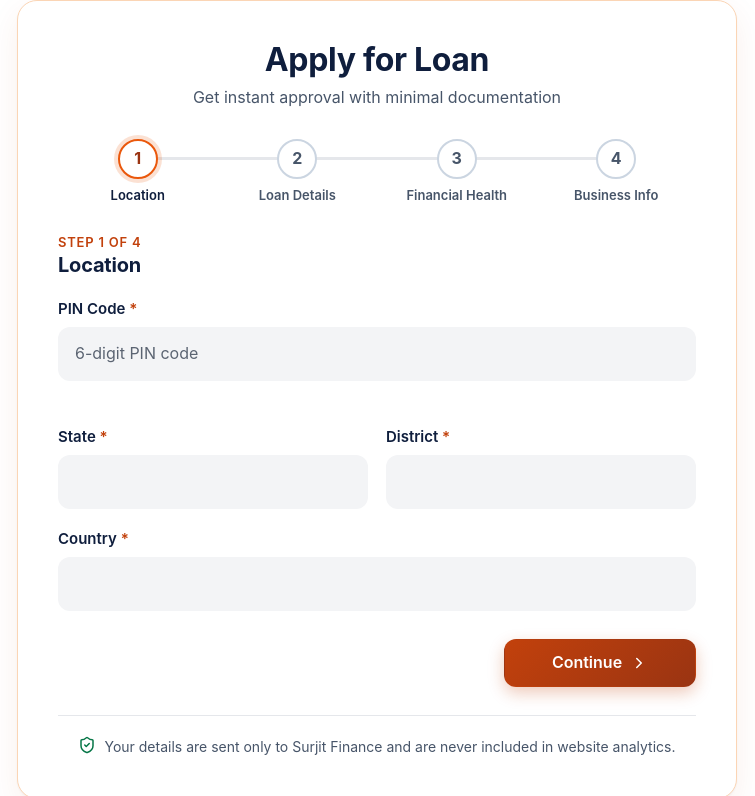
Scenario: Step 3 — Financial health › all three selections are required
This screenshot has width=755, height=796.
In the field labelled "PIN Code *": (377, 354) [59,328,695,380], type "226001"
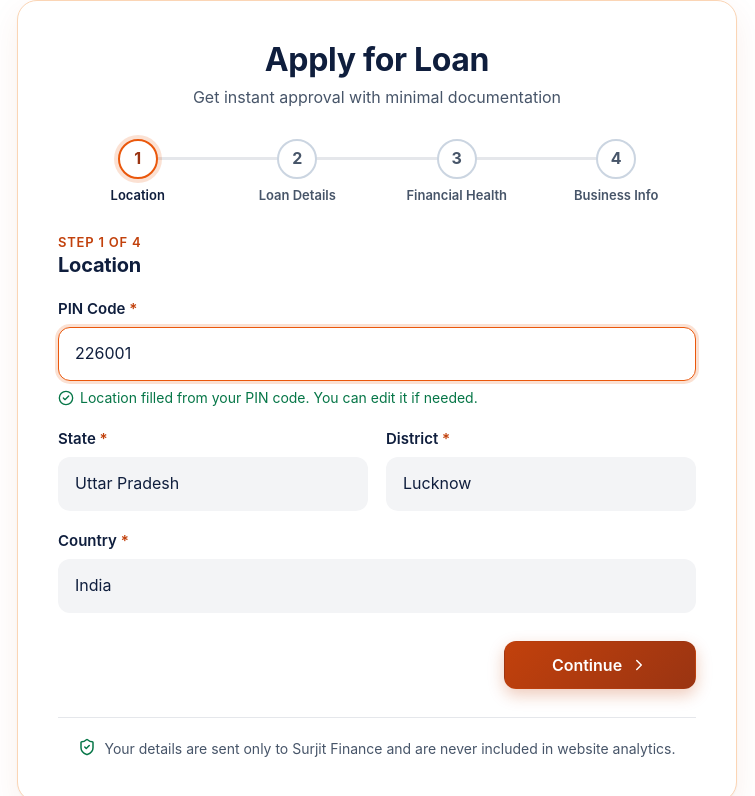
Now the field labelled "State *" holds "Uttar Pradesh", box [59,458,367,510]
Click the button "Continue": (600, 665) [504,641,696,689]
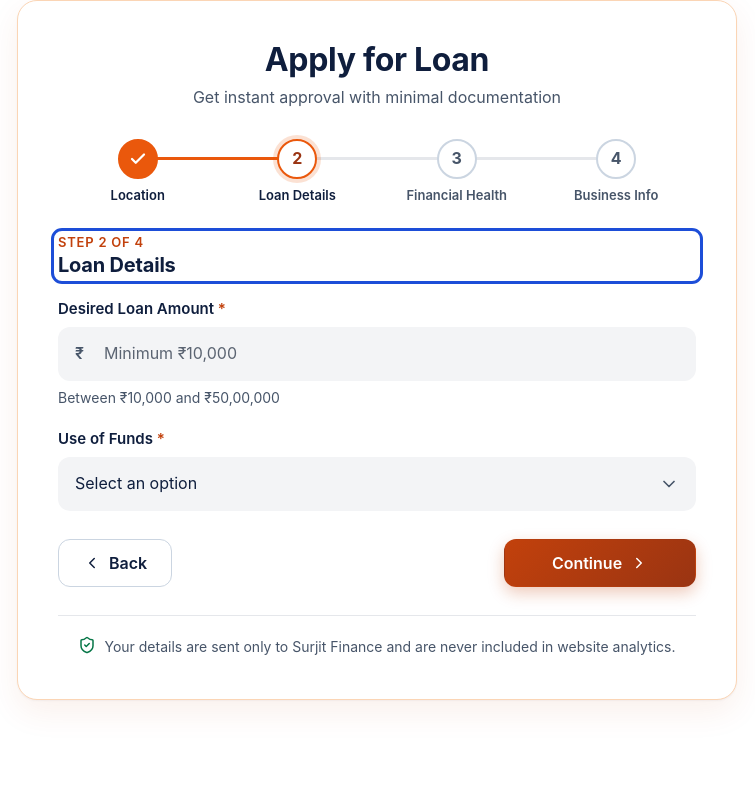
Now the heading "Step 2 of 4 Loan Details" is shown, box [58,234,176,277]
In the field labelled "Desired Loan Amount *": (392, 354) [88,328,695,380], type "250000"
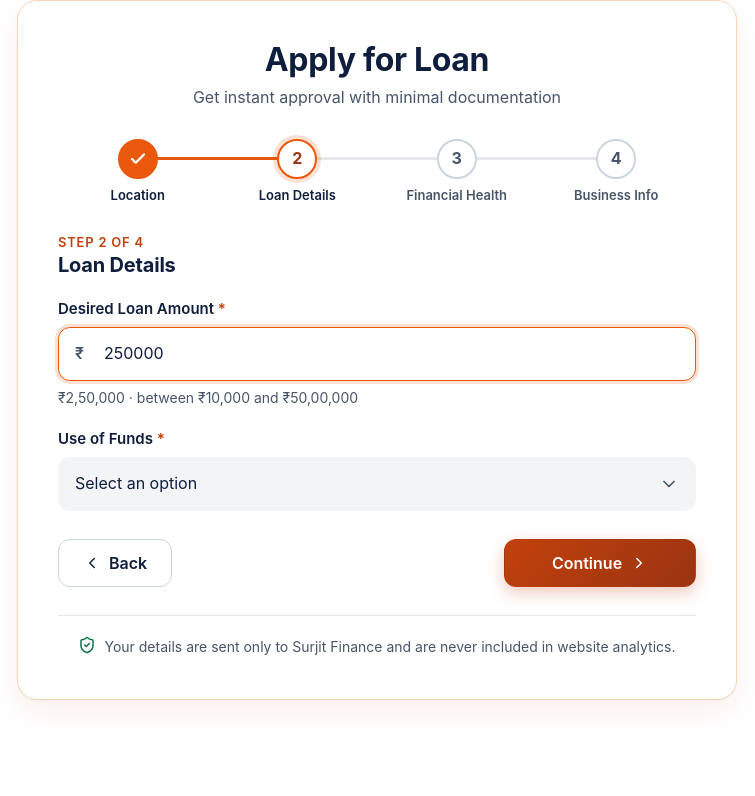
Select "Working Capital" in the dropdown labelled "Use of Funds *": (377, 484) [59,458,695,510]
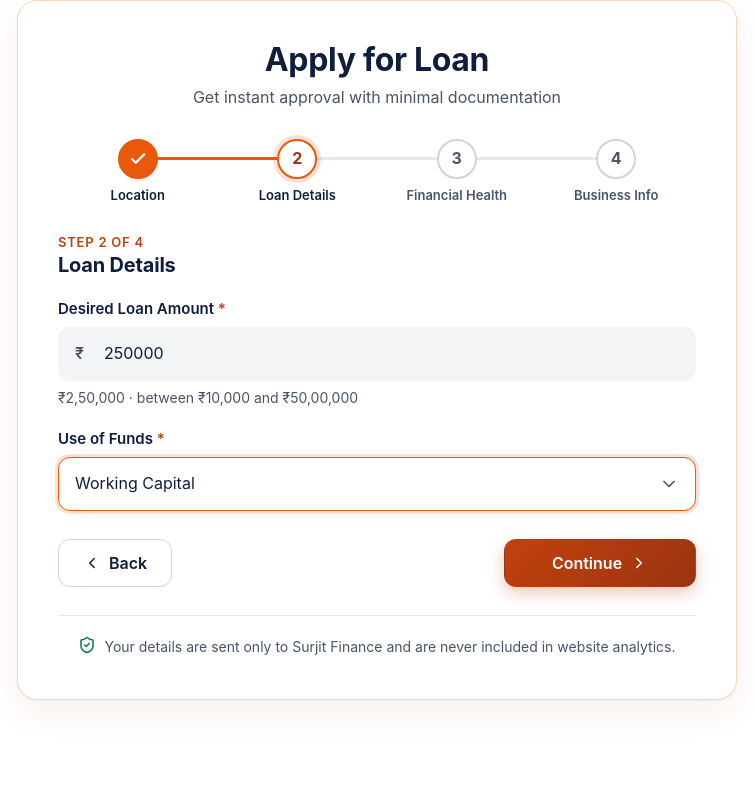
Click the button "Continue": (600, 563) [504,539,696,587]
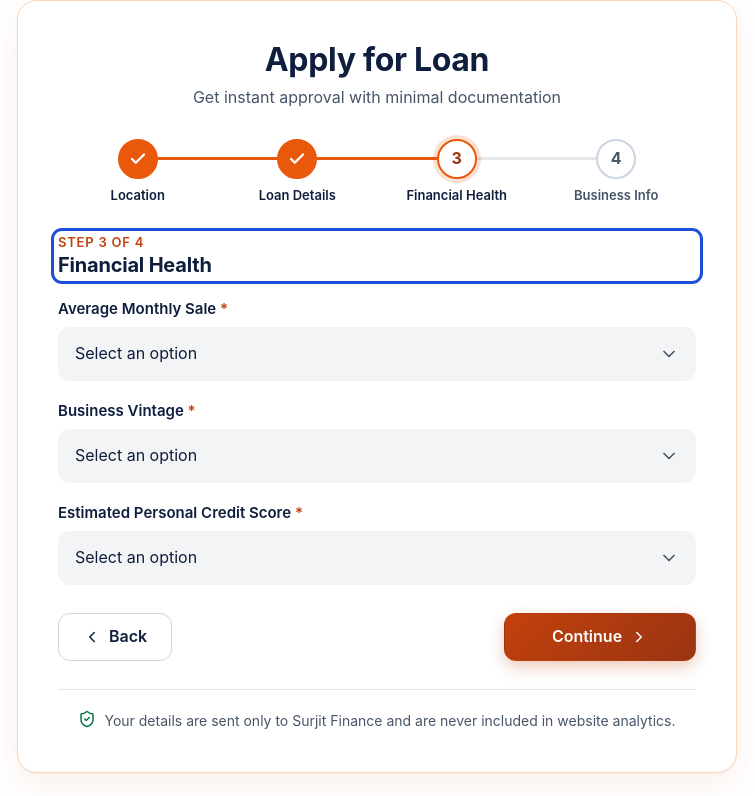
Now the heading "Step 3 of 4 Financial Health" is shown, box [58,234,212,277]
Click the button "Continue": (600, 637) [504,613,696,661]
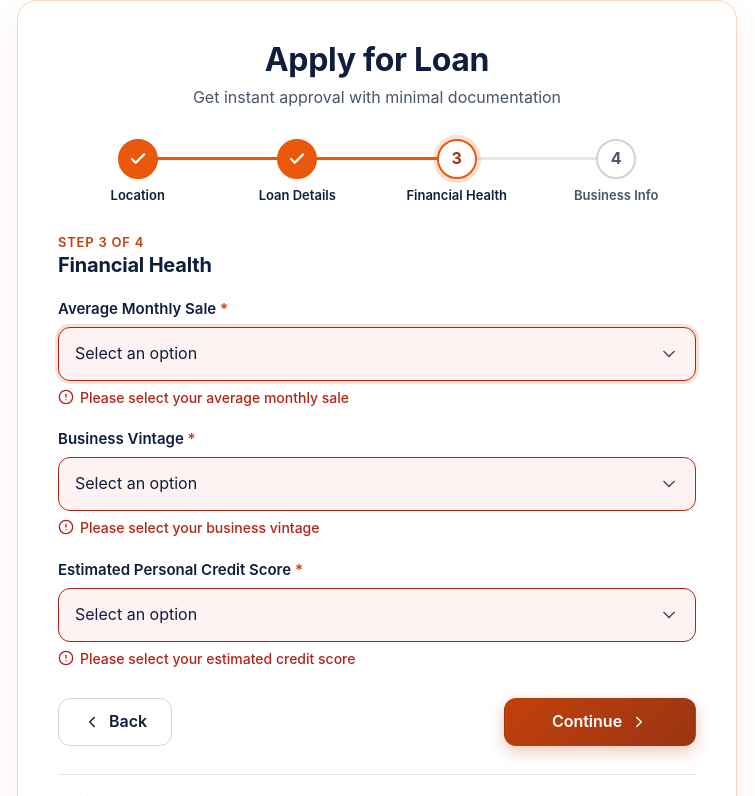
Now the text "Please select your average monthly sale" is shown, box [80,387,349,409]
Now the text "Please select your business vintage" is shown, box [80,517,320,540]
Now the text "Please select your estimated credit score" is shown, box [80,648,356,670]
